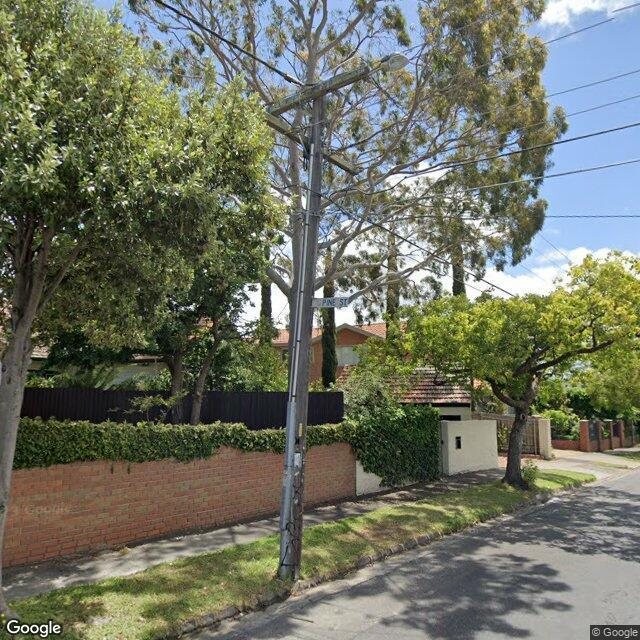crossarm: (267, 116, 360, 174), (268, 64, 371, 116)
streetlight: (370, 51, 410, 76)
timber-pole: (276, 85, 324, 582)
